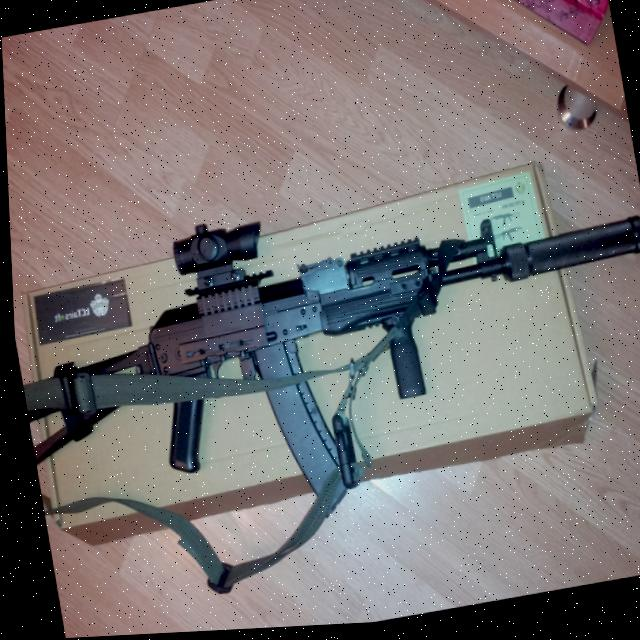firearm: (6, 152, 640, 561)
